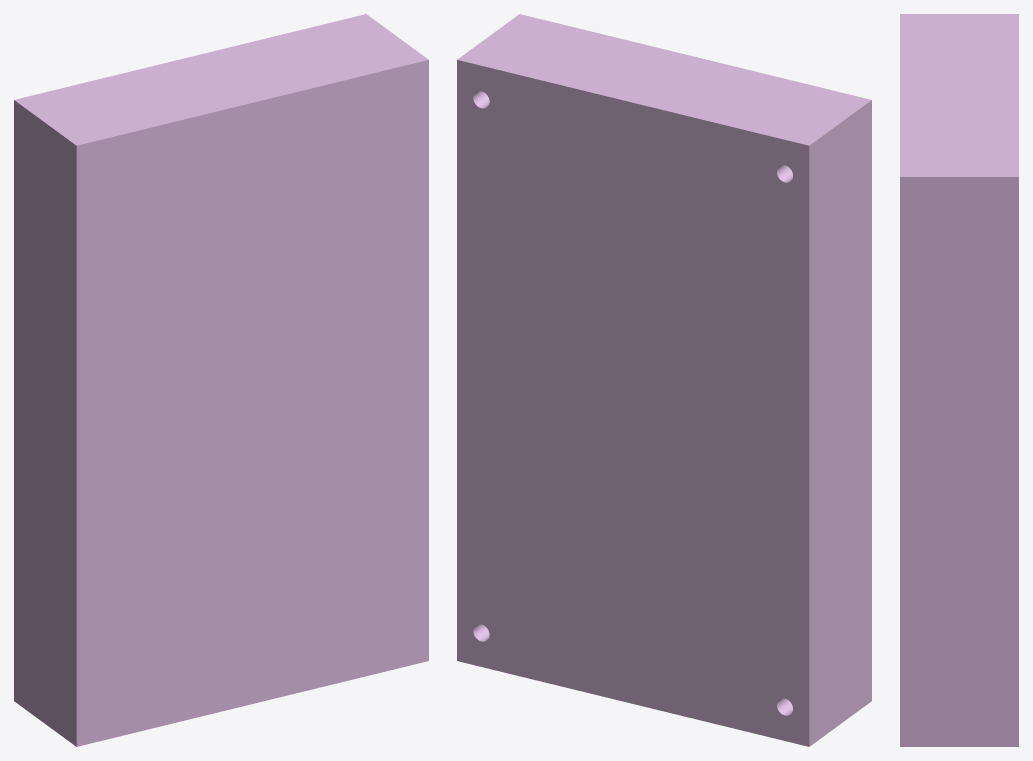
Rendered from orangepi.gltf.
3 renders of one model, left to right at view 1: azimuth 30°, elevation 25°; view 2: azimuth 150°, elevation 25°; view 3: azimuth 270°, elevation 25°, orthographic. The views are drawn at different scales.
Parts seen in each view (by area): view 1: mesh3111, mesh3110, mesh3109; view 2: mesh3106, mesh3110, mesh3109; view 3: mesh3108, mesh3109.
Boxes of the visible parts, bbox=[...] form: mesh3111: bbox=[76, 60, 428, 746]; mesh3110: bbox=[14, 100, 76, 746]; mesh3109: bbox=[14, 14, 428, 145]; mesh3106: bbox=[457, 60, 809, 746]; mesh3110: bbox=[809, 100, 871, 746]; mesh3109: bbox=[457, 14, 871, 145]; mesh3108: bbox=[900, 177, 1018, 746]; mesh3109: bbox=[900, 14, 1018, 176].
Bounding box in the file's own units: 0.065 × 0.106 × 0.02.
